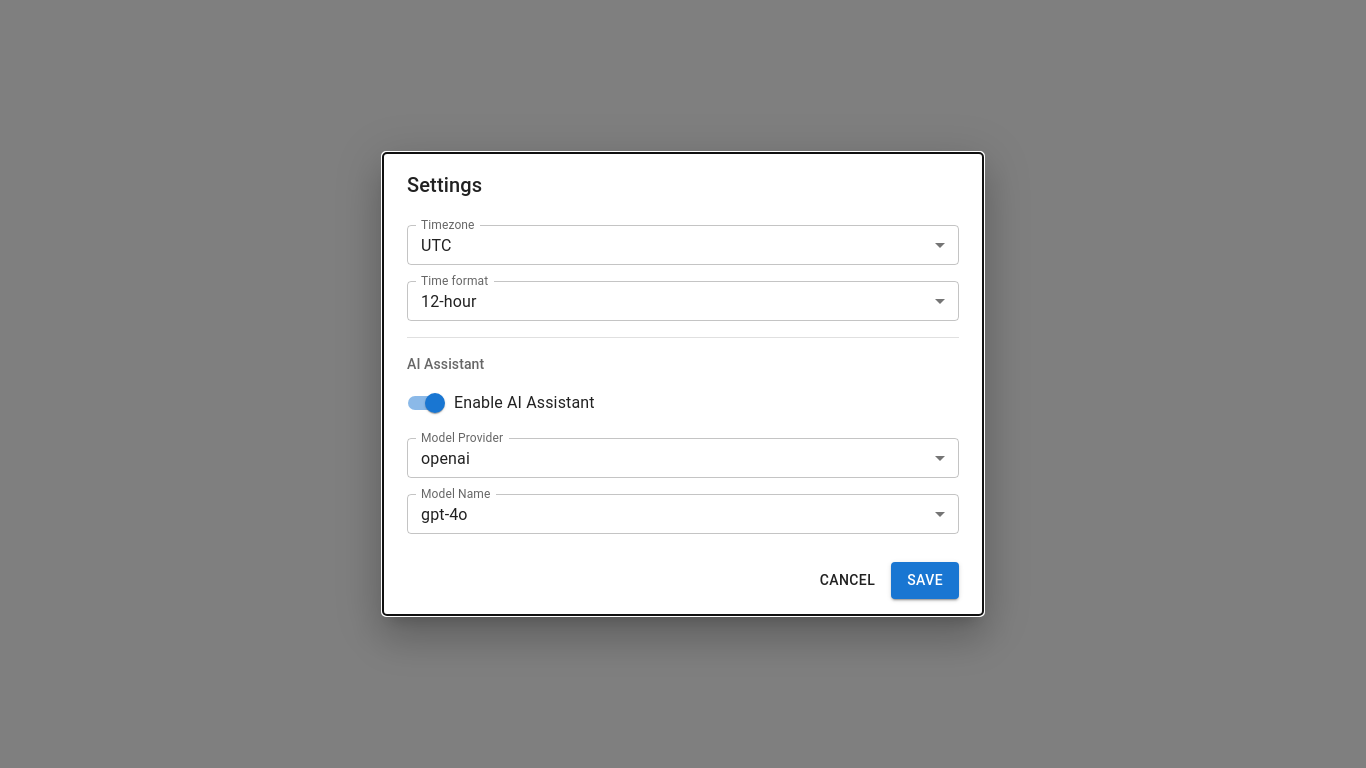
Test: UserSettingsModal › does not duplicate a model that is still whitelisted
Step 1. Press the mouse on the dropdown named "Model Name" → (444, 514), box [421,505,468,524]
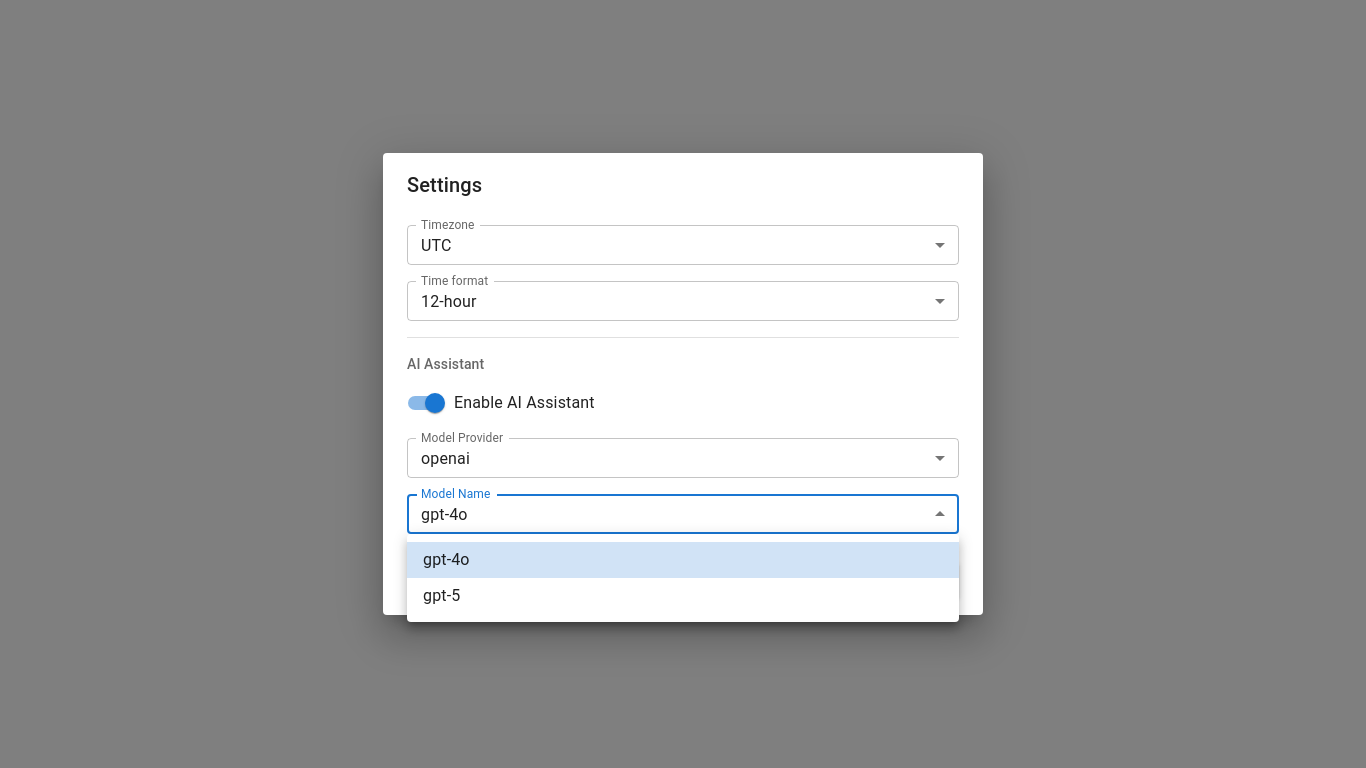
Expected: the number of options "gpt-4o" is 1, [407,542,959,578]
